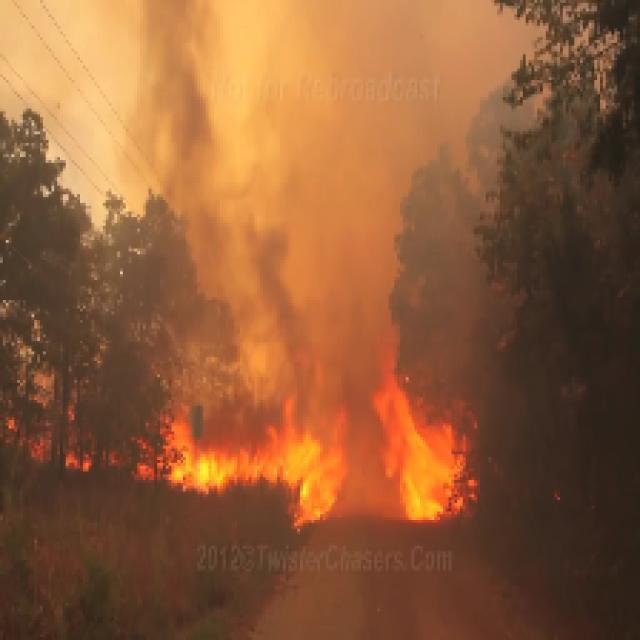Fire: (2, 272, 538, 572)
Smoke: (31, 0, 583, 300)
